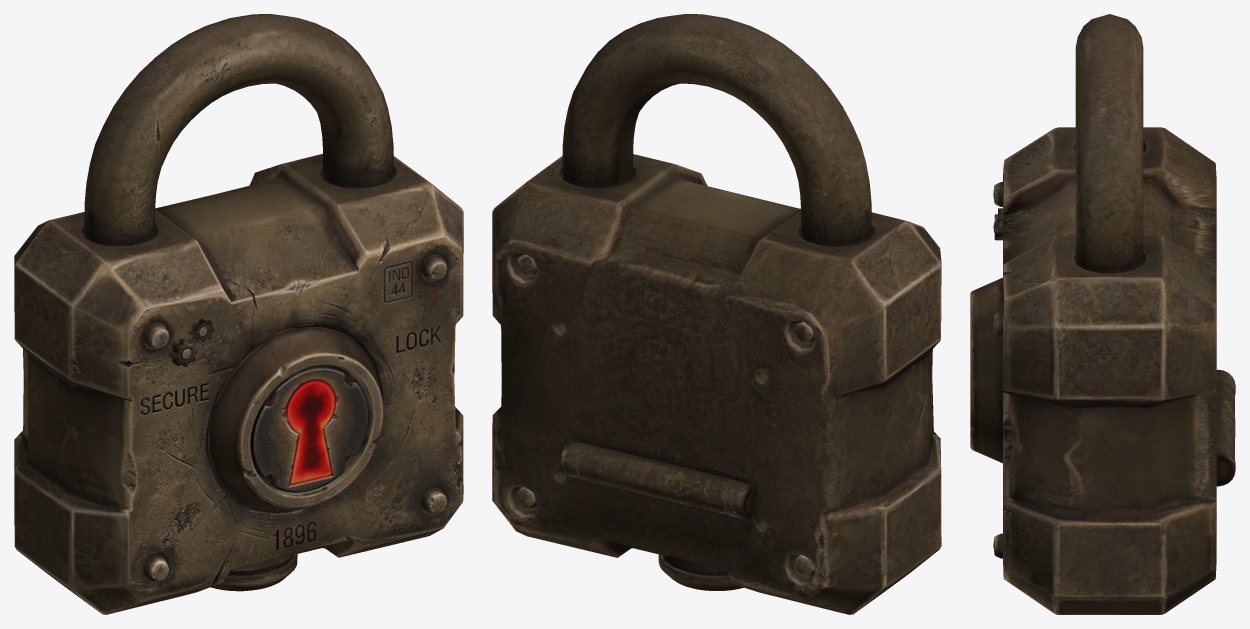
The model's file is SM_RustyPadlock.fbx.
3 renders of one model, left to right at view 1: azimuth 30°, elevation 25°; view 2: azimuth 150°, elevation 25°; view 3: azimuth 270°, elevation 25°, orthographic. The views are drawn at different scales.
Visible parts, largest first — view 1: b2dbebf3_3e2b_4e5c_a992_8708d7fd77b6; view 2: b2dbebf3_3e2b_4e5c_a992_8708d7fd77b6; view 3: b2dbebf3_3e2b_4e5c_a992_8708d7fd77b6.
Boxes of the visible parts, x1,y1,x2,y2 form: b2dbebf3_3e2b_4e5c_a992_8708d7fd77b6: (14,14,463,614); b2dbebf3_3e2b_4e5c_a992_8708d7fd77b6: (492,14,941,614); b2dbebf3_3e2b_4e5c_a992_8708d7fd77b6: (970,14,1235,614).
Bounding box in the file's own units: 0.7485 × 0.9995 × 0.4575.
1 material, 1 textured.
